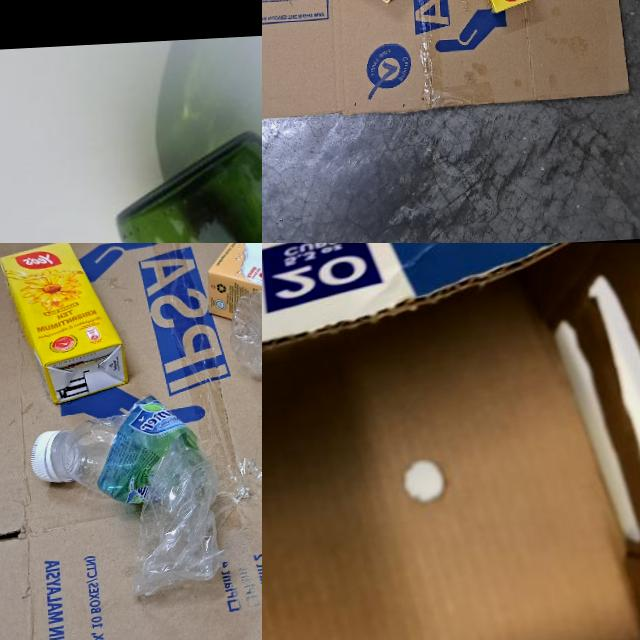caixinha: (0, 243, 131, 407), (202, 243, 262, 366)
garrafa de vidro: (111, 122, 262, 243)
garrafa plástica: (49, 389, 228, 602)
papelão: (262, 243, 640, 640), (0, 243, 262, 640), (262, 0, 628, 133)
tampa plástica: (28, 430, 70, 484)
